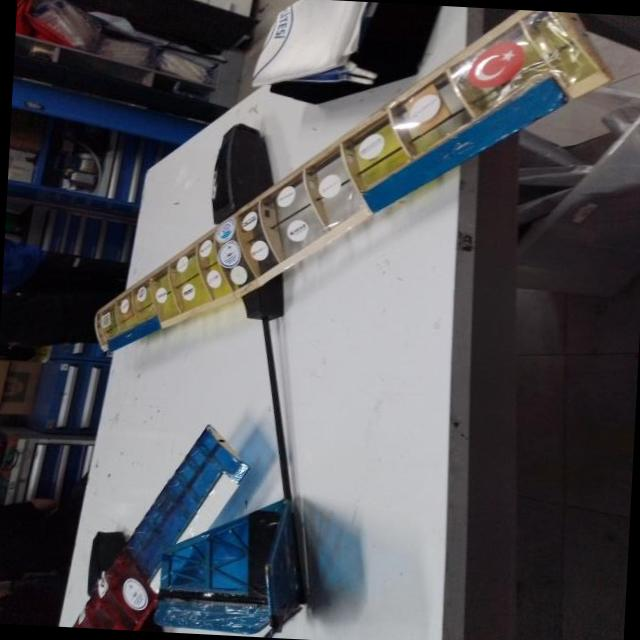UAV: (60, 0, 627, 640)
